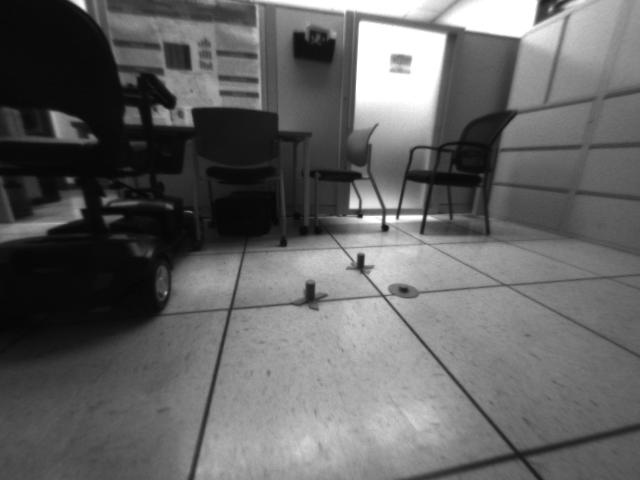X: (293, 279, 328, 311), (348, 252, 374, 272)
